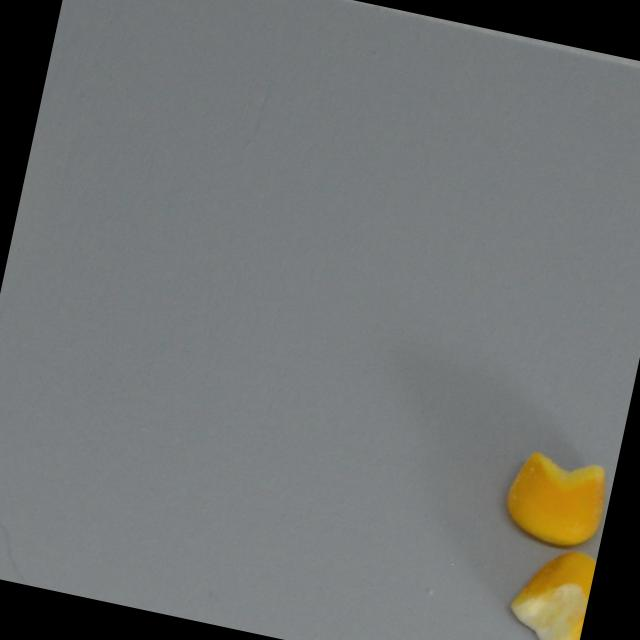no_canjicado: (497, 446, 612, 552), (502, 539, 597, 640)
